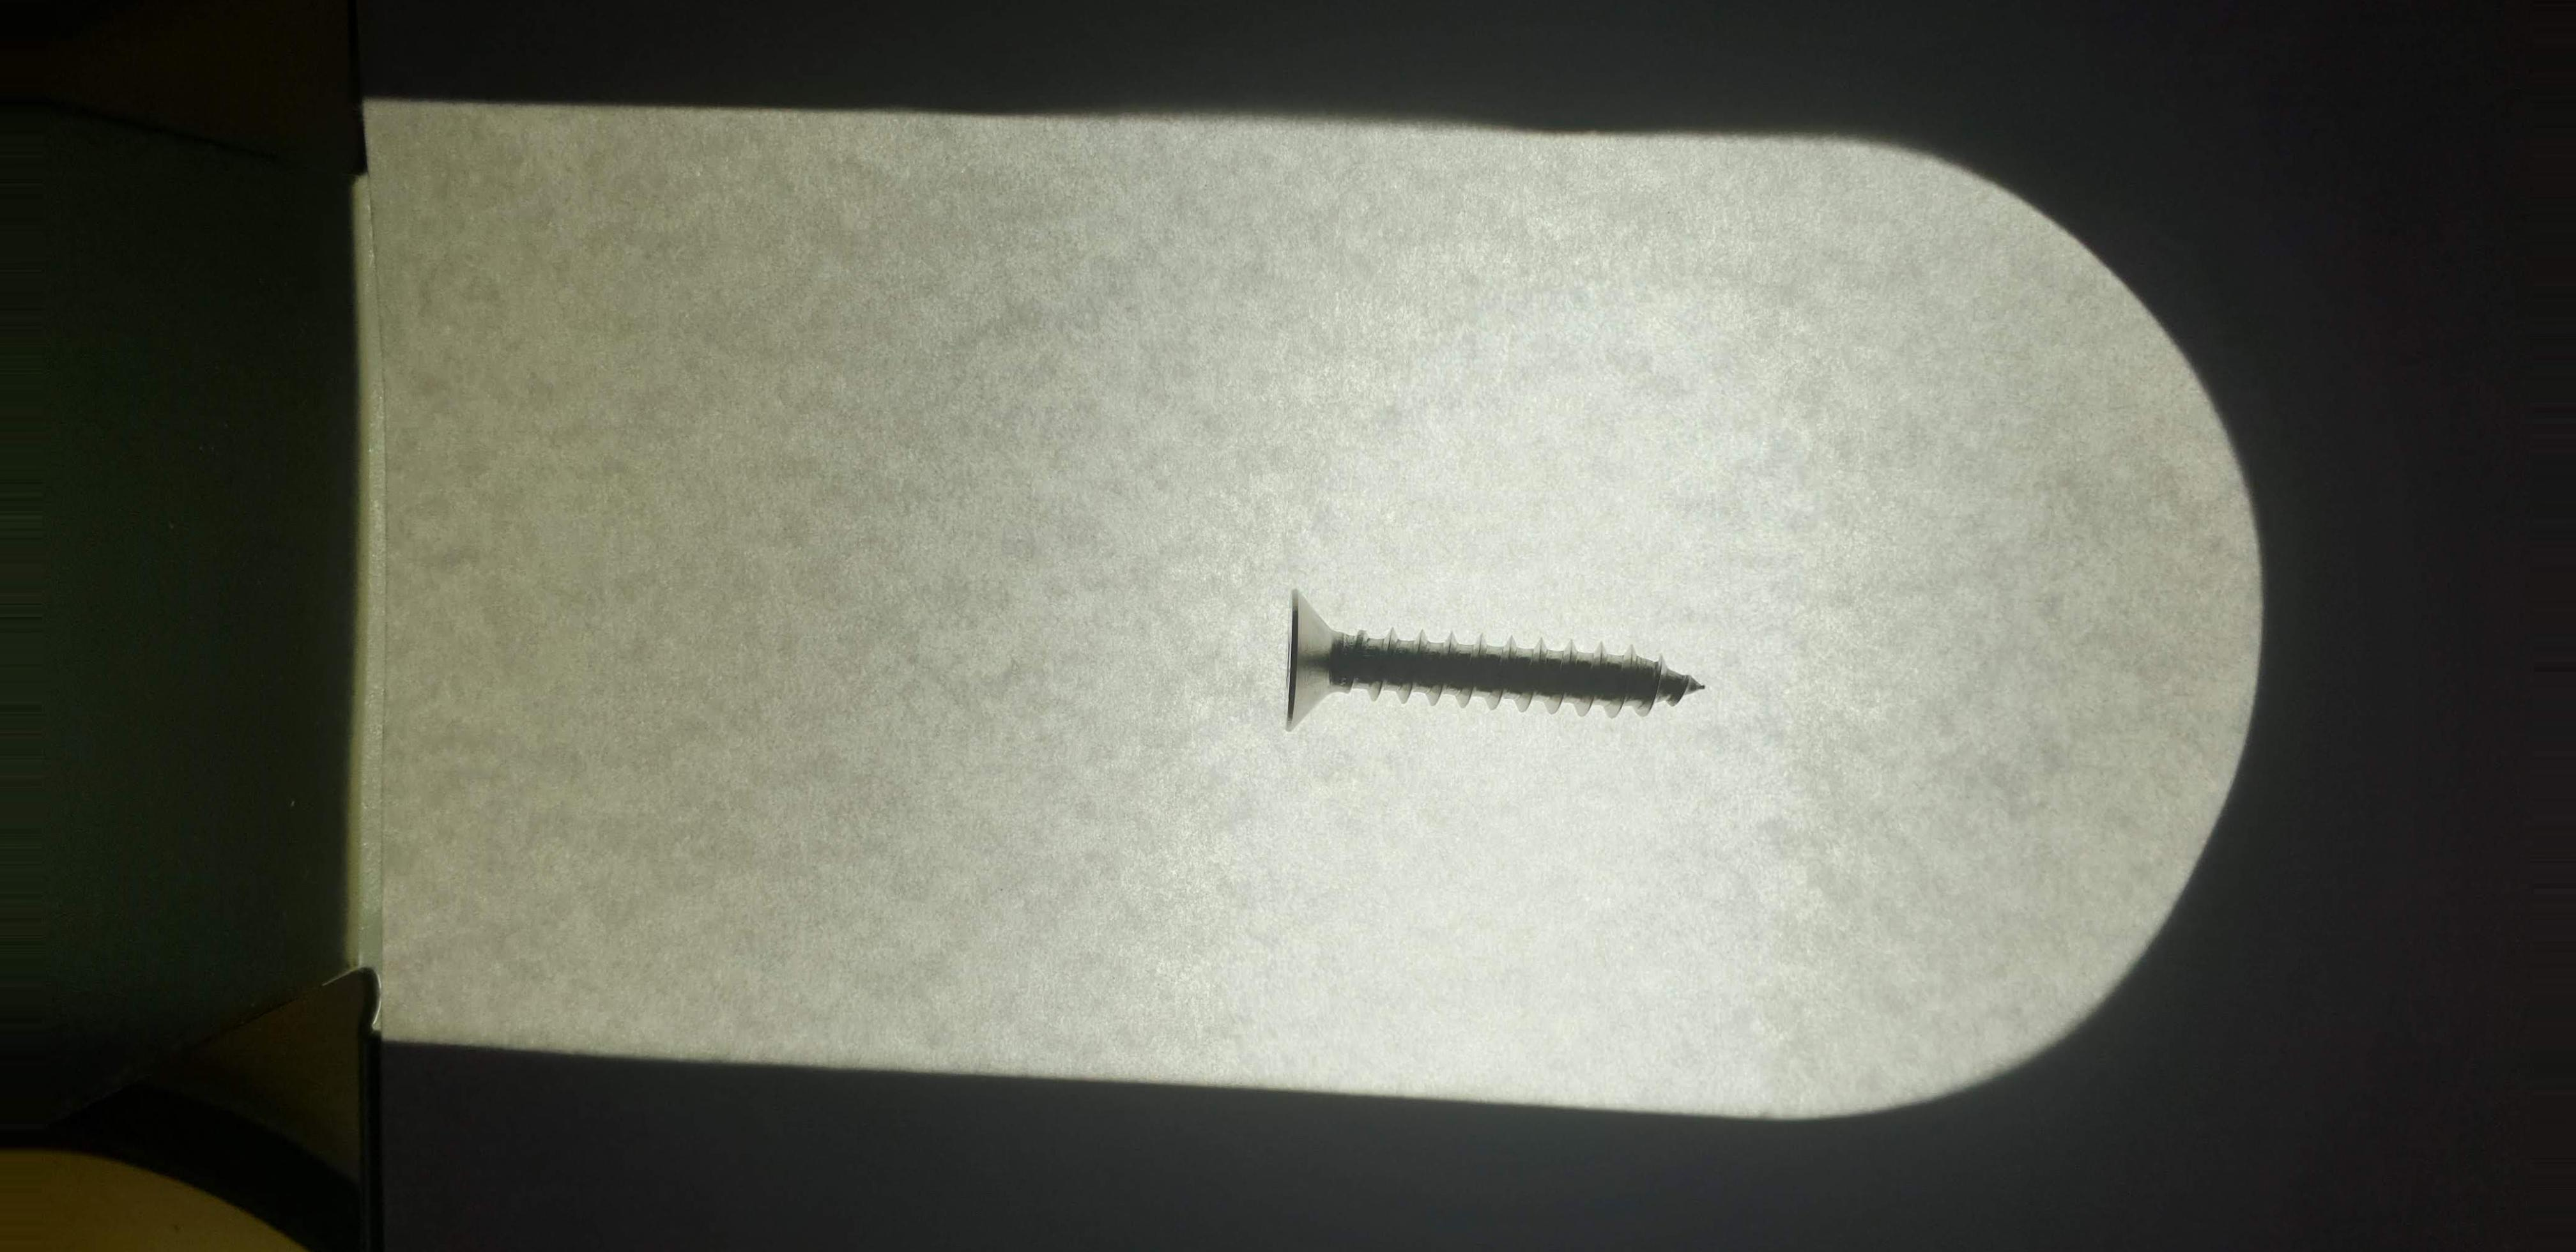S004: (1237, 549, 1758, 790)
